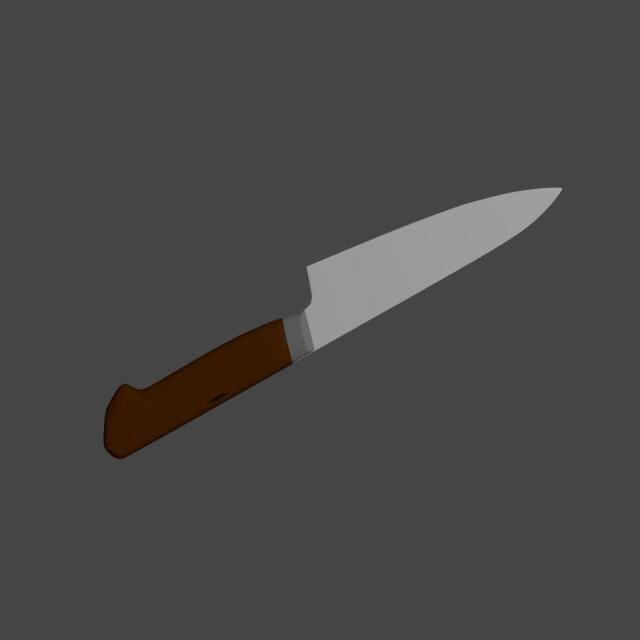knife: (104, 318, 294, 460)
